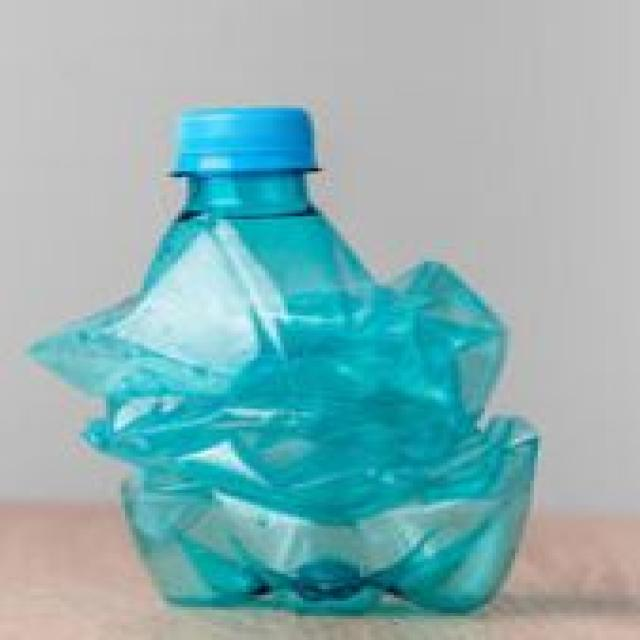general: (26, 102, 542, 616)
